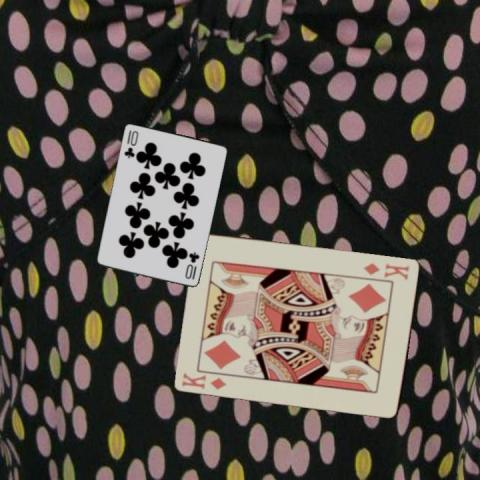10c: (182, 248, 201, 280), (121, 127, 139, 159)
Kd: (361, 260, 412, 282), (179, 370, 228, 392)
